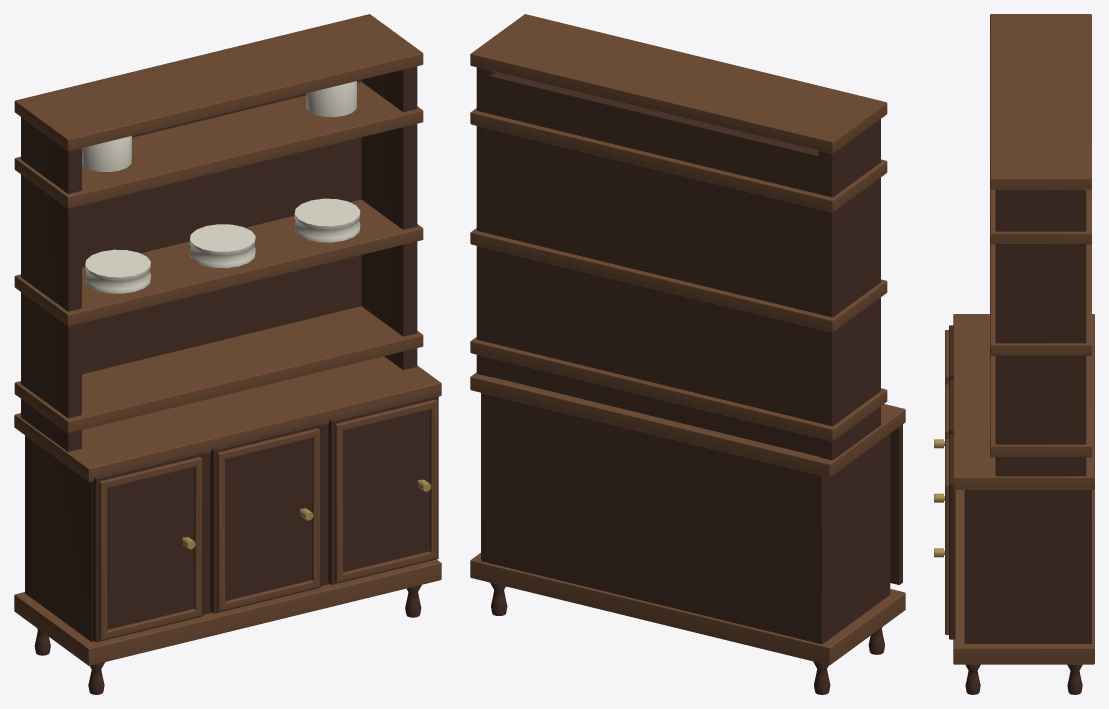
The model's file is rpg-mansion-kitchen-hutch-01.glb.
The picture shows the model from 3 angles, left to right: view 1: azimuth 30°, elevation 25°; view 2: azimuth 150°, elevation 25°; view 3: azimuth 270°, elevation 25°; orthographic projection. The views are drawn at different scales.
Visible parts, largest first — view 1: rpg-mansion-kitchen-hutch-01; view 2: rpg-mansion-kitchen-hutch-01; view 3: rpg-mansion-kitchen-hutch-01.
Part boxes in pixels (left/top/right/bottom): rpg-mansion-kitchen-hutch-01: left=14, top=14, right=441, bottom=694; rpg-mansion-kitchen-hutch-01: left=470, top=14, right=905, bottom=694; rpg-mansion-kitchen-hutch-01: left=934, top=14, right=1094, bottom=694.
Bounding box in the file's own units: 1.36 × 2.01 × 0.56.
